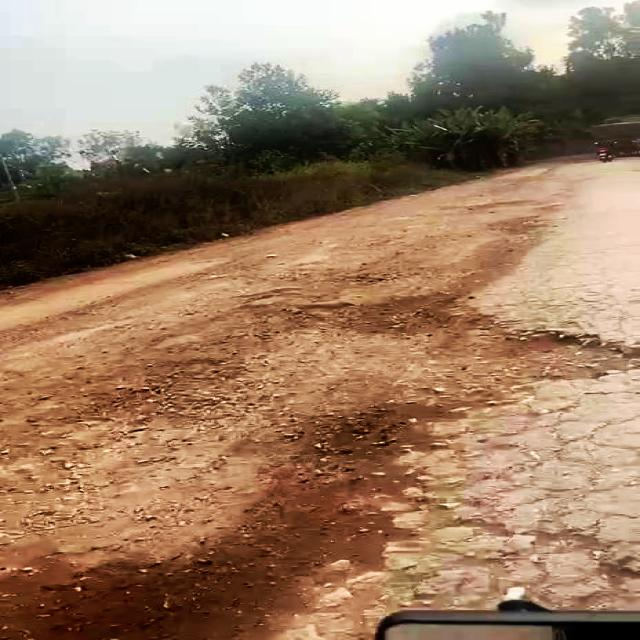pothole: (299, 509, 640, 640), (353, 297, 640, 394)
